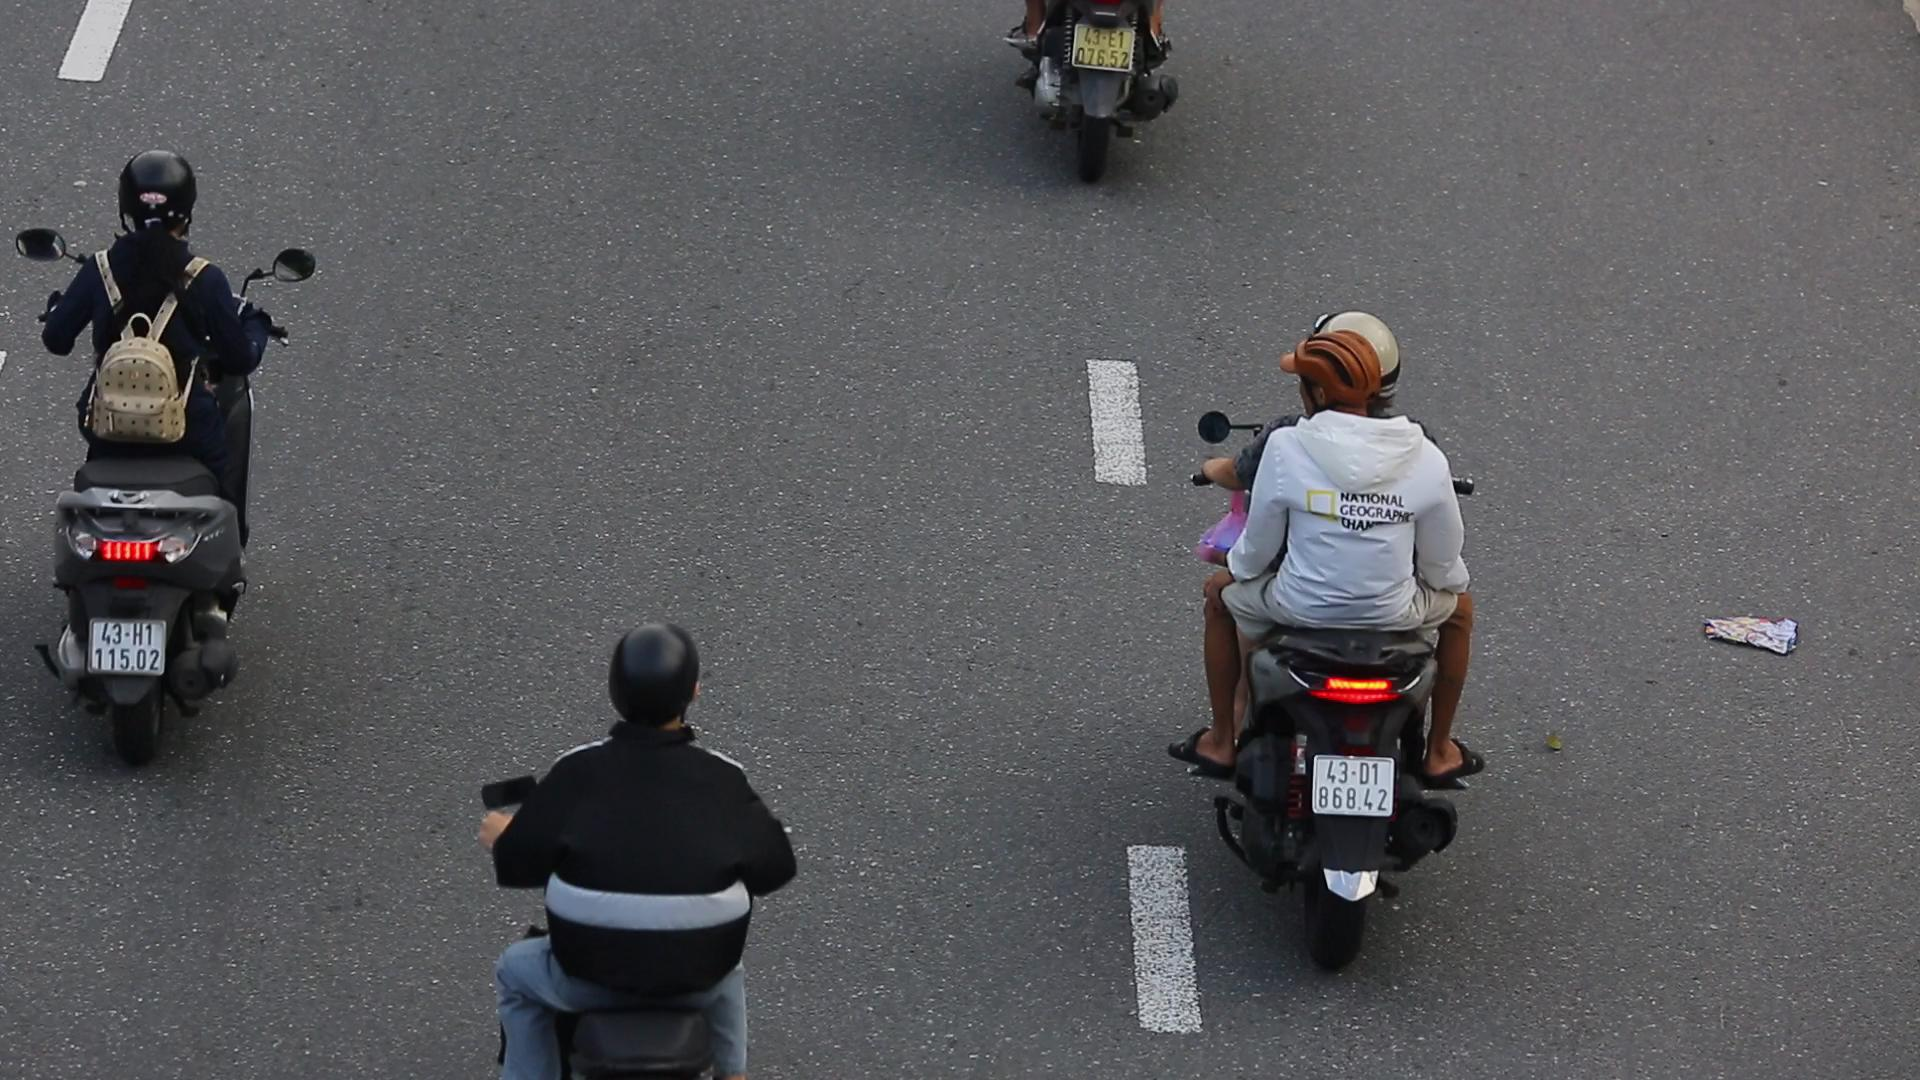motobike: (1156, 282, 1520, 986), (0, 111, 315, 819)
